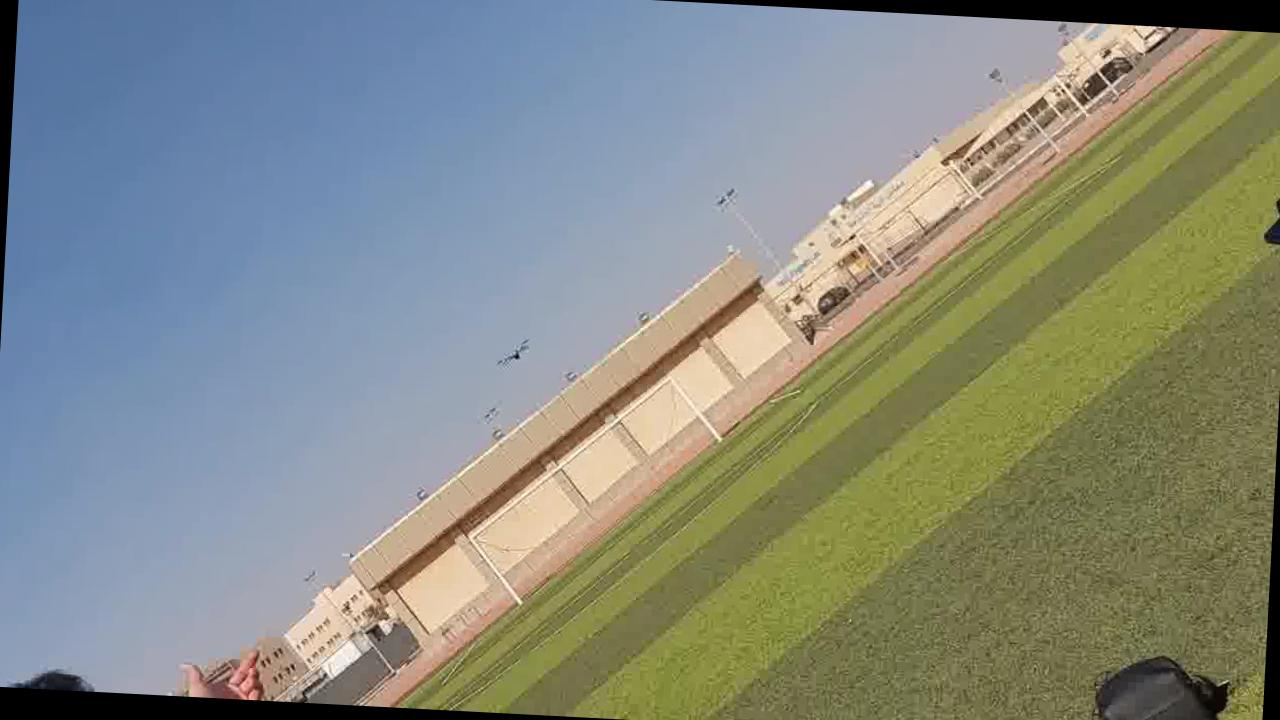drone: (474, 327, 542, 382)
